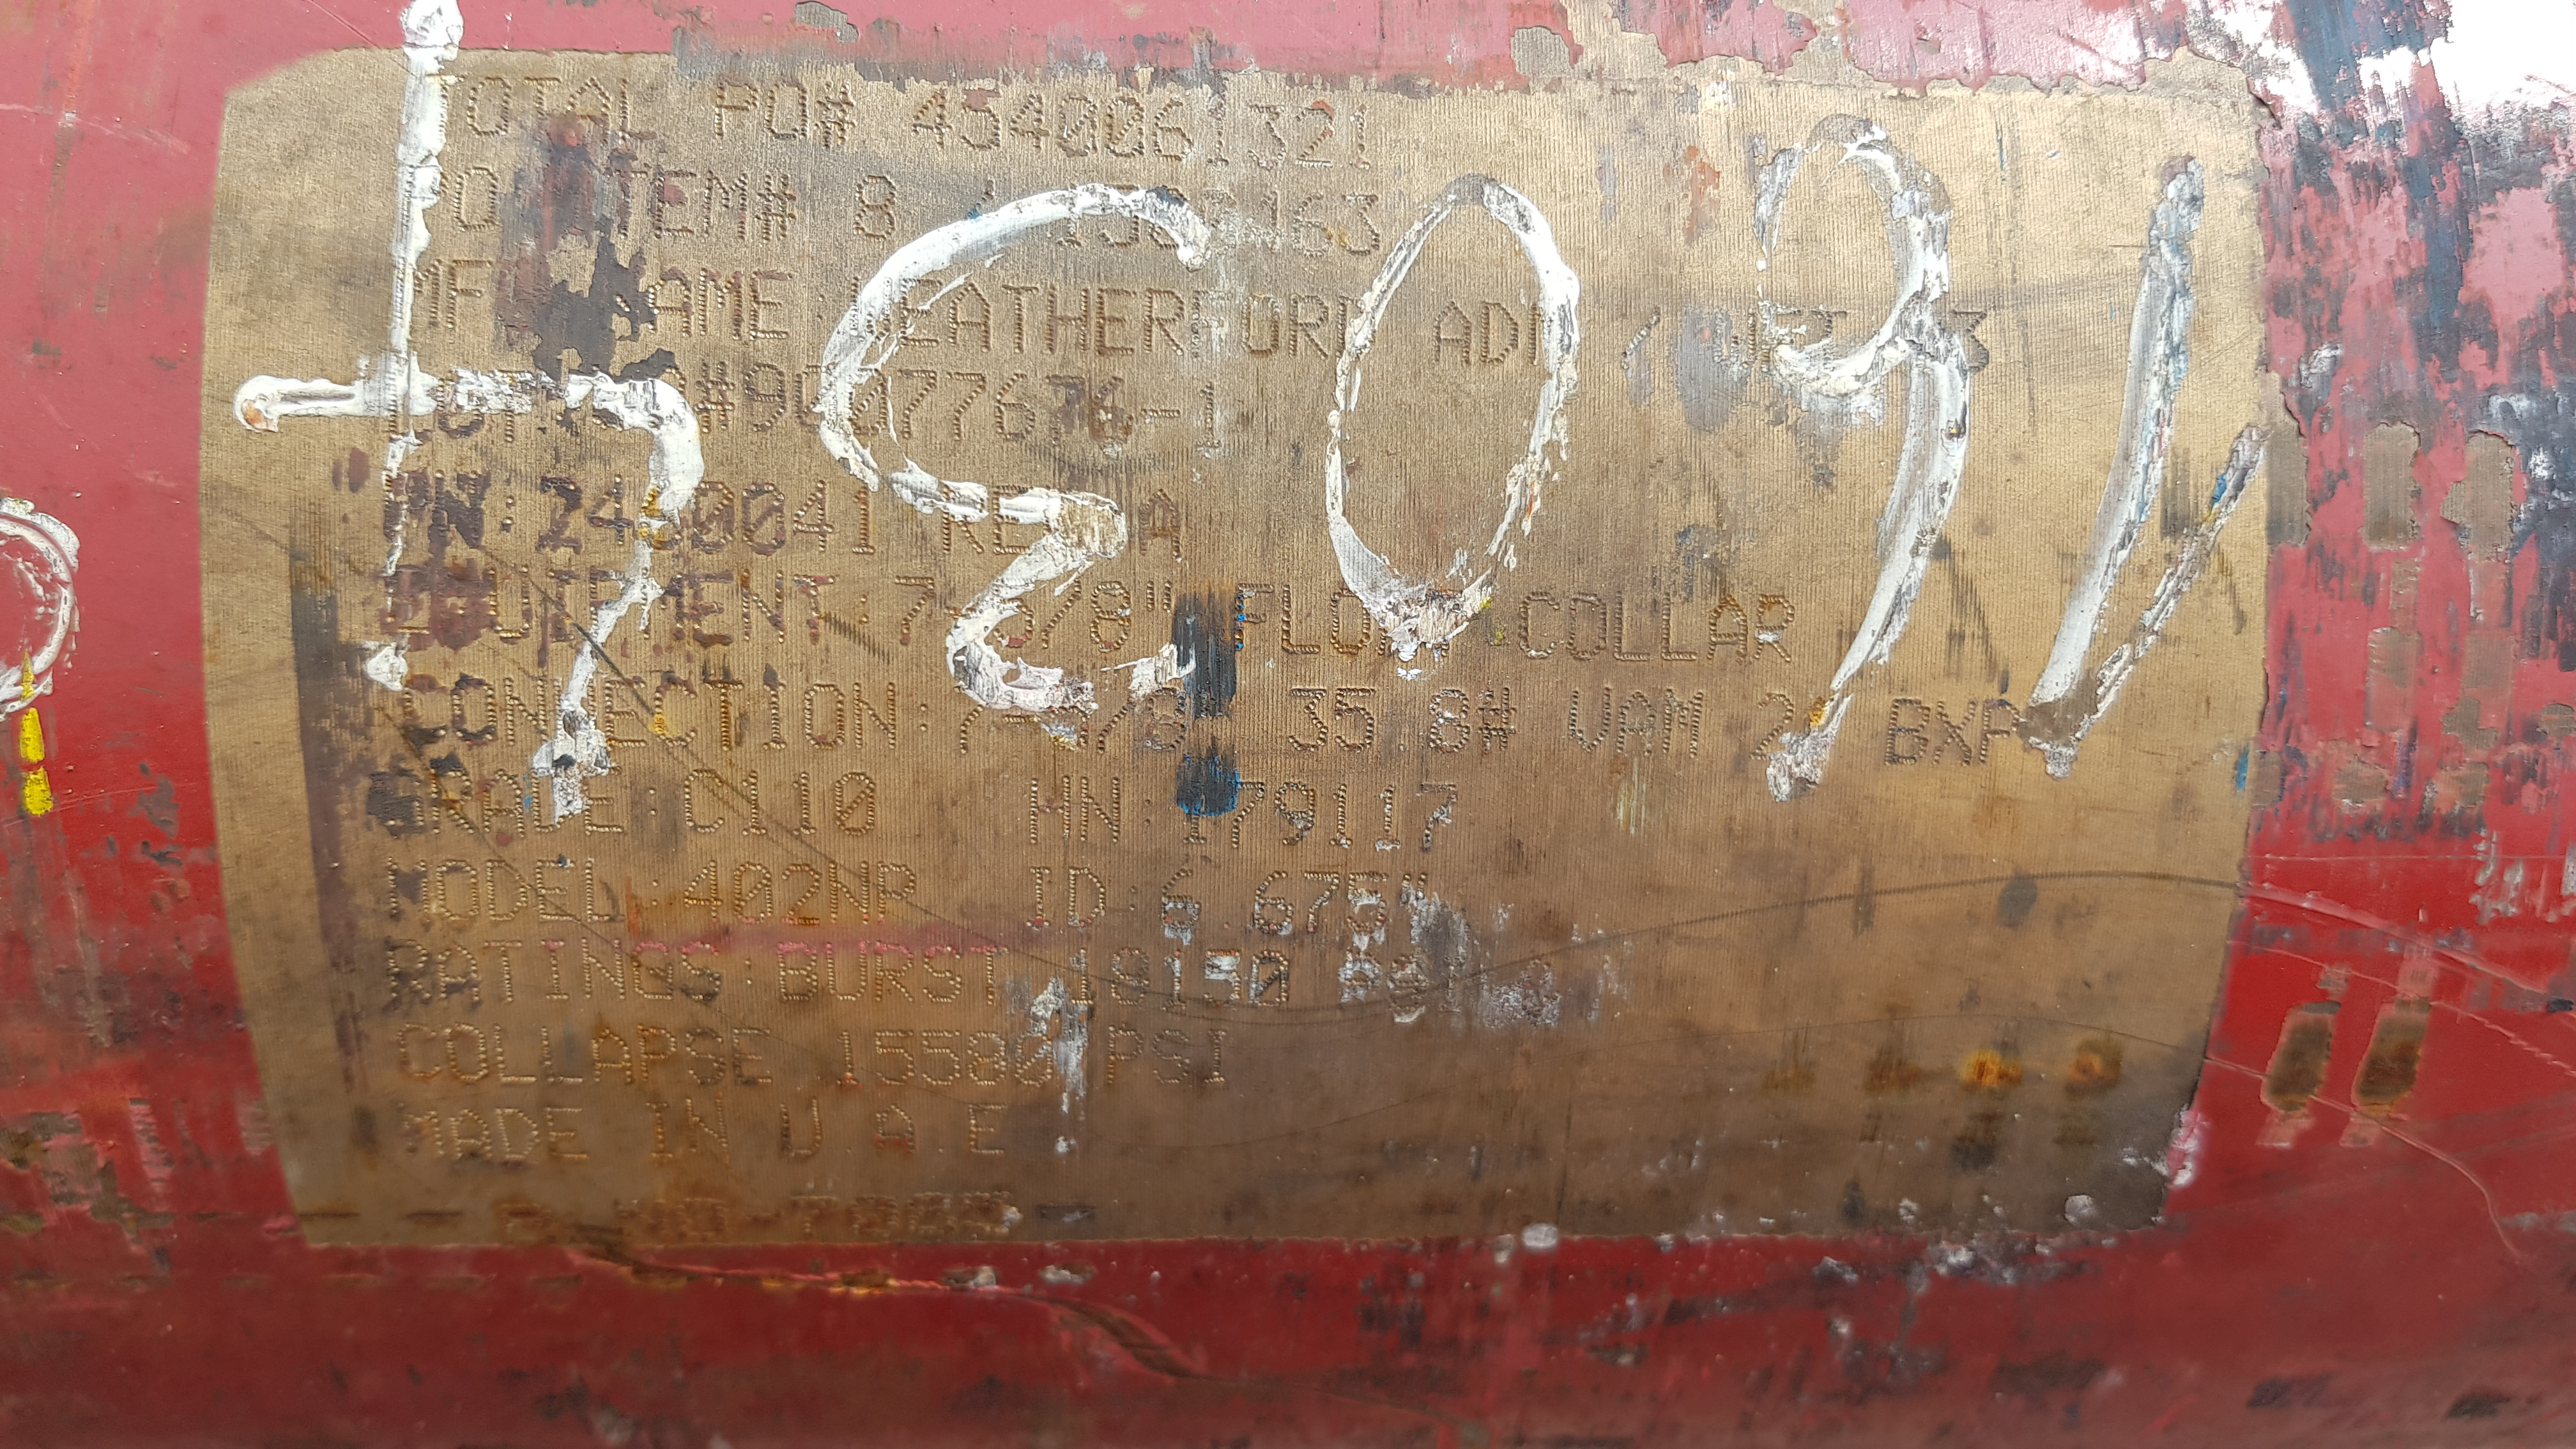character: (430, 467, 481, 550), (584, 469, 635, 552), (379, 462, 430, 545), (633, 472, 685, 554), (686, 478, 738, 559), (738, 476, 789, 557), (485, 563, 536, 644), (398, 669, 449, 750), (694, 265, 747, 343), (743, 267, 796, 345), (787, 476, 840, 554), (685, 566, 734, 649), (736, 564, 786, 648), (501, 669, 550, 752), (391, 253, 442, 333), (548, 674, 600, 754), (598, 674, 649, 754), (844, 271, 897, 347), (534, 472, 584, 554), (449, 669, 499, 750), (699, 674, 748, 755), (428, 761, 478, 842), (699, 166, 750, 244), (485, 366, 536, 444), (1134, 481, 1185, 559), (485, 563, 533, 646), (646, 271, 697, 347), (1283, 290, 1334, 366), (1428, 295, 1479, 372), (651, 165, 701, 242), (444, 255, 494, 333), (938, 481, 987, 559), (985, 479, 1035, 557), (651, 674, 701, 752), (639, 564, 685, 648), (893, 272, 945, 347), (943, 278, 994, 352), (577, 763, 628, 837), (1042, 281, 1092, 357), (1092, 283, 1141, 359), (1141, 285, 1191, 361), (1185, 285, 1235, 361), (1233, 288, 1283, 364), (1332, 292, 1382, 368), (1472, 297, 1522, 373), (1523, 294, 1573, 370), (1228, 577, 1277, 653), (1976, 694, 2026, 770), (602, 166, 649, 244), (892, 364, 939, 442), (939, 366, 987, 444), (989, 368, 1037, 446), (1040, 370, 1088, 448), (1088, 373, 1136, 451), (791, 568, 839, 646), (987, 575, 1035, 653), (1086, 579, 1134, 656), (1085, 577, 1132, 655), (1276, 580, 1323, 658), (1325, 580, 1373, 658), (1516, 584, 1564, 662), (849, 679, 899, 754), (1139, 679, 1189, 754), (1658, 688, 1707, 763), (679, 764, 729, 839), (382, 938, 435, 1007), (453, 159, 501, 235), (740, 359, 787, 435), (793, 361, 840, 437), (890, 568, 938, 644), (950, 681, 998, 757), (1884, 692, 1932, 768), (1930, 695, 1978, 771), (478, 766, 525, 842), (577, 936, 630, 1003), (1005, 85, 1053, 159), (1194, 94, 1242, 168), (844, 361, 892, 435), (1042, 678, 1090, 752), (1748, 690, 1796, 764), (587, 563, 630, 646), (1564, 685, 1614, 755), (1612, 688, 1661, 759), (690, 359, 736, 435), (812, 80, 860, 152), (908, 81, 955, 154), (957, 83, 1005, 156), (1053, 90, 1100, 163), (1100, 90, 1148, 163), (1148, 94, 1196, 166), (1242, 101, 1290, 173), (1290, 104, 1338, 177), (994, 281, 1042, 354), (708, 74, 759, 142), (761, 76, 812, 143), (1376, 584, 1421, 662), (1608, 587, 1652, 665), (1040, 577, 1086, 651), (1656, 589, 1702, 663), (869, 938, 918, 1007), (1330, 685, 1378, 755), (1472, 683, 1520, 754), (435, 938, 483, 1008), (959, 1189, 1024, 1240), (1752, 593, 1798, 665), (801, 679, 847, 752), (1095, 685, 1141, 757), (1028, 773, 1074, 846), (1077, 773, 1123, 846), (830, 770, 879, 837), (433, 856, 483, 924), (481, 856, 531, 924), (531, 856, 580, 924), (679, 858, 729, 925), (1288, 191, 1336, 260), (773, 938, 821, 1007), (527, 763, 571, 837), (1283, 685, 1329, 755), (1424, 686, 1470, 757), (379, 766, 425, 837), (1272, 778, 1318, 849), (441, 1021, 490, 1086), (564, 74, 612, 142), (1336, 191, 1384, 258), (1095, 182, 1143, 249), (851, 173, 899, 241), (1948, 308, 1996, 375), (1711, 306, 1759, 373), (1343, 869, 1391, 936), (479, 938, 527, 1005), (752, 173, 798, 242), (1414, 780, 1460, 849), (821, 938, 870, 1001), (393, 1019, 442, 1083), (1704, 591, 1748, 662), (775, 1095, 823, 1161), (543, 564, 580, 648), (1566, 591, 1608, 663), (1224, 777, 1267, 849), (1251, 869, 1295, 938), (679, 938, 724, 1007), (490, 1023, 538, 1086), (536, 1023, 584, 1086), (633, 1023, 681, 1086), (918, 1024, 966, 1088), (683, 1097, 731, 1161), (902, 1189, 959, 1242), (612, 1194, 672, 1244), (421, 71, 465, 138), (731, 860, 775, 927), (778, 860, 823, 927), (826, 858, 870, 925), (1159, 865, 1203, 932), (495, 1201, 563, 1246), (1424, 587, 1463, 663), (520, 71, 563, 140), (587, 1026, 633, 1090), (681, 1024, 727, 1088), (727, 1024, 773, 1088), (872, 1026, 918, 1090), (467, 73, 511, 138), (616, 76, 660, 142), (874, 860, 918, 925), (386, 856, 433, 916), (492, 1104, 540, 1164), (541, 1102, 589, 1162), (846, 1192, 901, 1244), (964, 1028, 1012, 1086), (1012, 1030, 1060, 1088), (964, 1099, 1012, 1157), (1065, 863, 1108, 929), (1189, 377, 1226, 451), (754, 679, 791, 754), (1049, 179, 1088, 249), (1150, 1026, 1194, 1088), (402, 1104, 446, 1166), (1109, 945, 1152, 1008), (1247, 948, 1290, 1012), (1102, 1024, 1145, 1088), (674, 1196, 732, 1242), (846, 478, 879, 557), (580, 858, 621, 924), (1617, 304, 1661, 364), (922, 945, 966, 1005), (451, 1104, 495, 1164), (1201, 948, 1244, 1010), (874, 1102, 920, 1159), (1302, 870, 1343, 934), (633, 938, 674, 1001), (970, 943, 1010, 1005), (1345, 103, 1376, 177), (738, 766, 770, 840), (787, 764, 819, 839), (1253, 188, 1286, 257), (536, 939, 573, 1001), (640, 1099, 678, 1161), (791, 1194, 839, 1242), (1325, 780, 1357, 849), (1065, 945, 1097, 1010), (1373, 782, 1403, 851), (1026, 865, 1056, 931), (833, 1026, 863, 1090), (1180, 784, 1210, 846), (1203, 1026, 1233, 1088), (1161, 948, 1189, 1010), (1145, 577, 1177, 614), (1399, 872, 1430, 906), (743, 1205, 782, 1230), (1138, 403, 1184, 423), (941, 603, 985, 619), (644, 784, 662, 819), (501, 492, 517, 531), (998, 713, 1040, 725), (916, 704, 932, 736), (1141, 798, 1157, 830), (858, 593, 872, 626), (648, 879, 662, 913), (741, 955, 754, 989), (1127, 885, 1139, 913)
